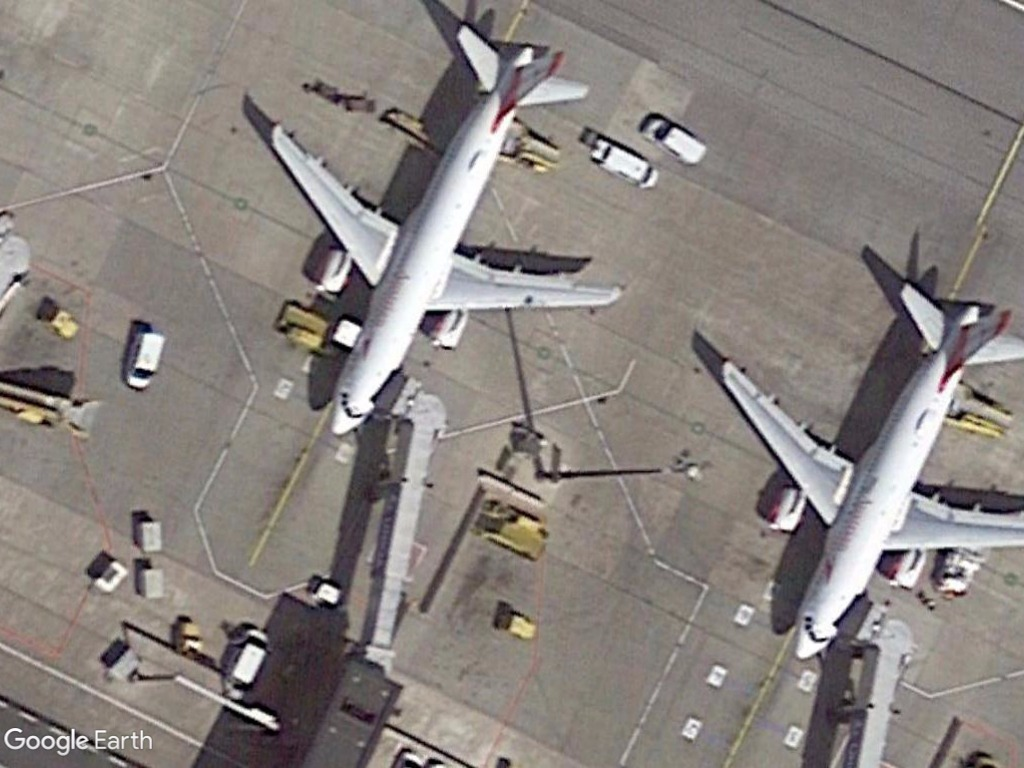airliner: (257, 16, 626, 443)
van: (639, 110, 710, 167), (224, 626, 274, 690), (601, 141, 663, 192), (122, 328, 170, 391)
